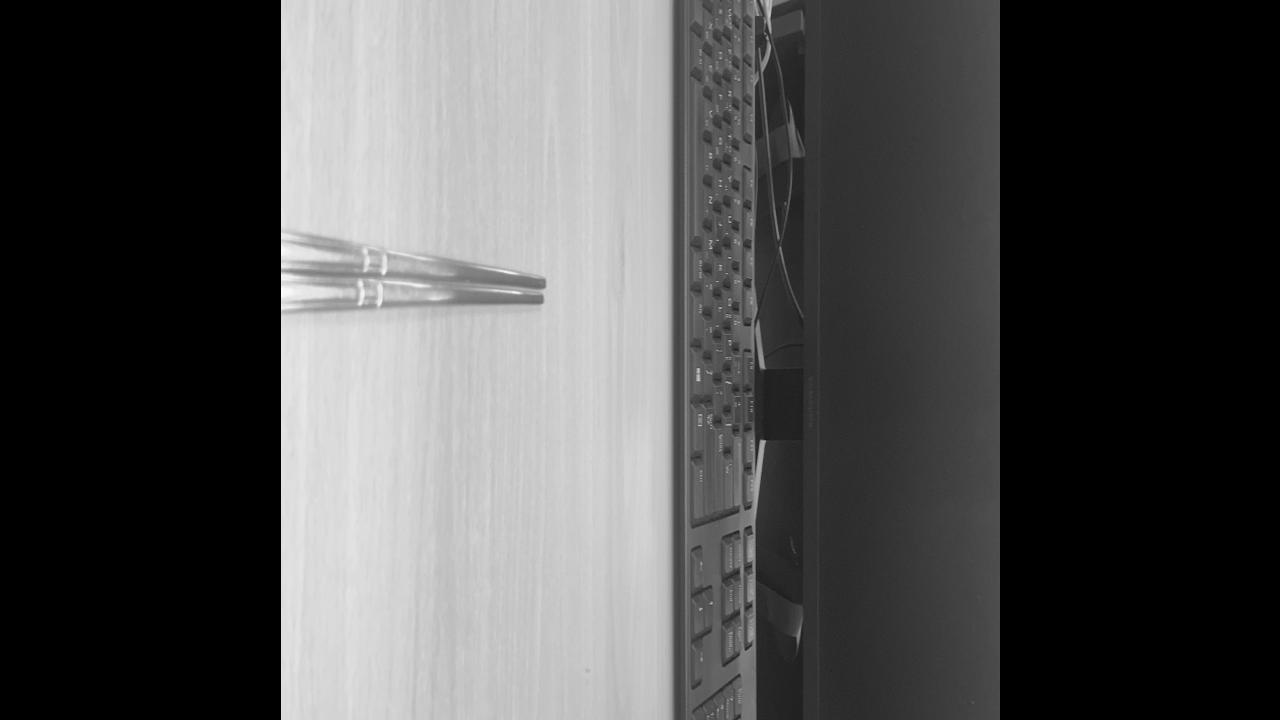chopstick: (282, 228, 544, 312)
